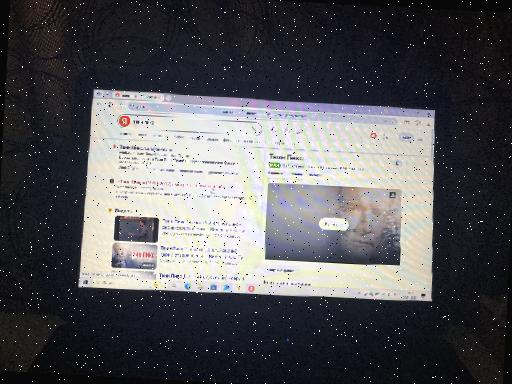yandex: (86, 111, 434, 287)
